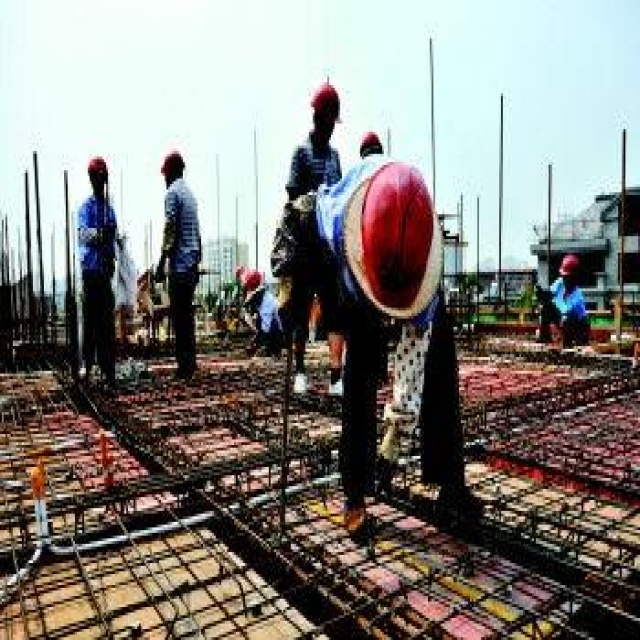Helmet: (333, 149, 438, 331), (69, 193, 125, 286), (159, 181, 203, 284), (299, 69, 348, 160), (148, 142, 195, 197), (80, 146, 118, 198), (549, 247, 588, 296)
